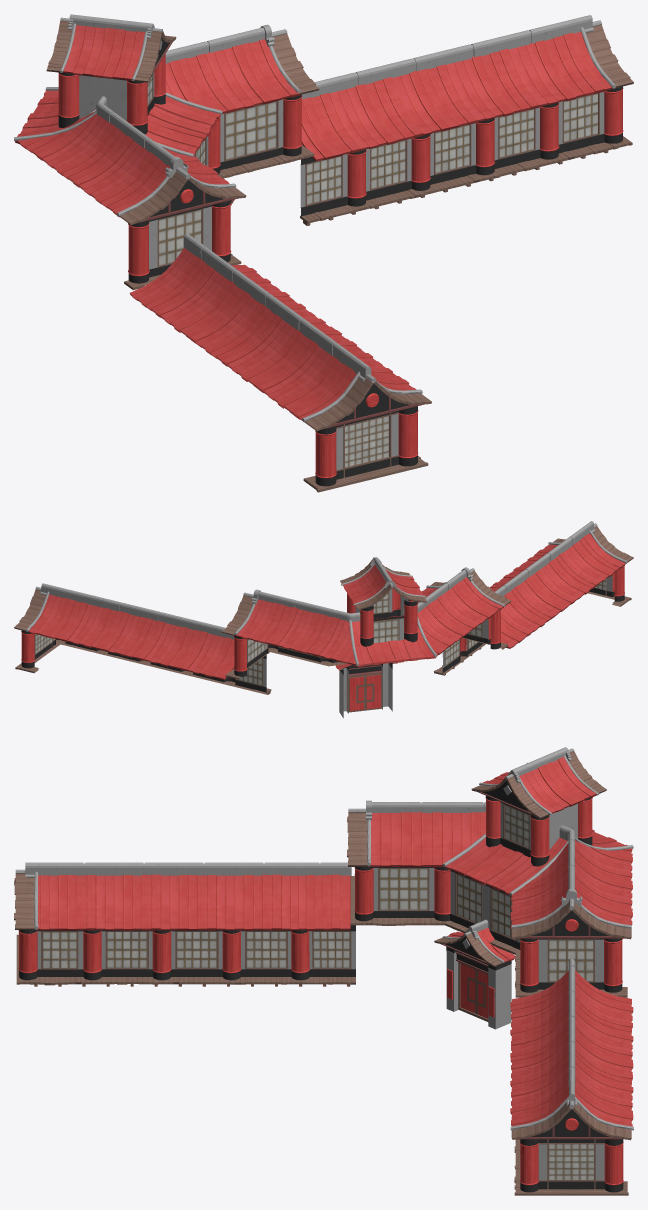
File: SM_ENV_KNVLLG_AreaA_Building_B.fbx
3 renders of one model, top to bottom at view 1: azimuth 30°, elevation 25°; view 2: azimuth 150°, elevation 25°; view 3: azimuth 270°, elevation 25°, orthographic. The views are drawn at different scales.
Visible parts, largest first — view 1: SM_ENV_KNVLLG_AreaA_Building_B.mo; view 2: SM_ENV_KNVLLG_AreaA_Building_B.mo; view 3: SM_ENV_KNVLLG_AreaA_Building_B.mo.
Boxes of the visible parts, x1=… form: SM_ENV_KNVLLG_AreaA_Building_B.mo: x1=14, y1=14, x2=633, y2=492; SM_ENV_KNVLLG_AreaA_Building_B.mo: x1=14, y1=521, x2=633, y2=718; SM_ENV_KNVLLG_AreaA_Building_B.mo: x1=14, y1=747, x2=633, y2=1195.
Bounding box in the file's own units: 11986 × 4924 × 11988.
